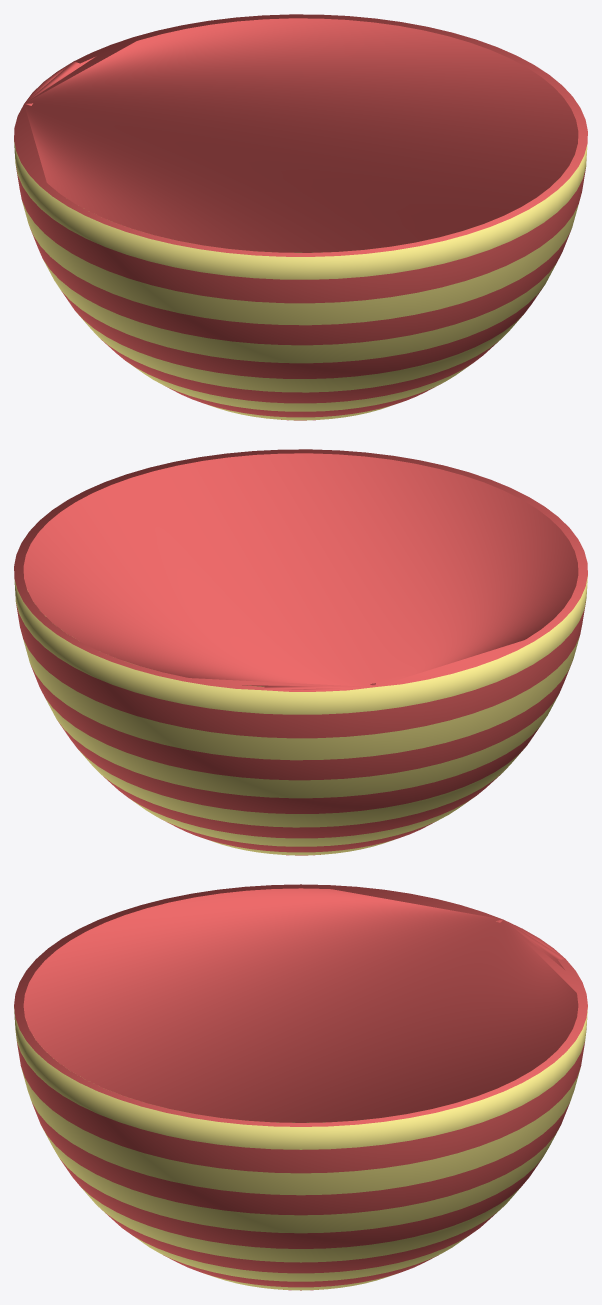
Rendered from Bowl.fbx.
3 views of the same model, one above another, from view 1: azimuth 30°, elevation 25°; view 2: azimuth 150°, elevation 25°; view 3: azimuth 270°, elevation 25° (orthographic).
Parts seen in each view (by area): view 1: Bowl; view 2: Bowl; view 3: Bowl.
Boxes of the visible parts, left/top/right/bottom form: Bowl: left=14, top=14, right=587, bottom=420; Bowl: left=14, top=449, right=587, bottom=855; Bowl: left=14, top=884, right=587, bottom=1290.
Size of the model in its own units: 2996 by 1489 by 2996.
